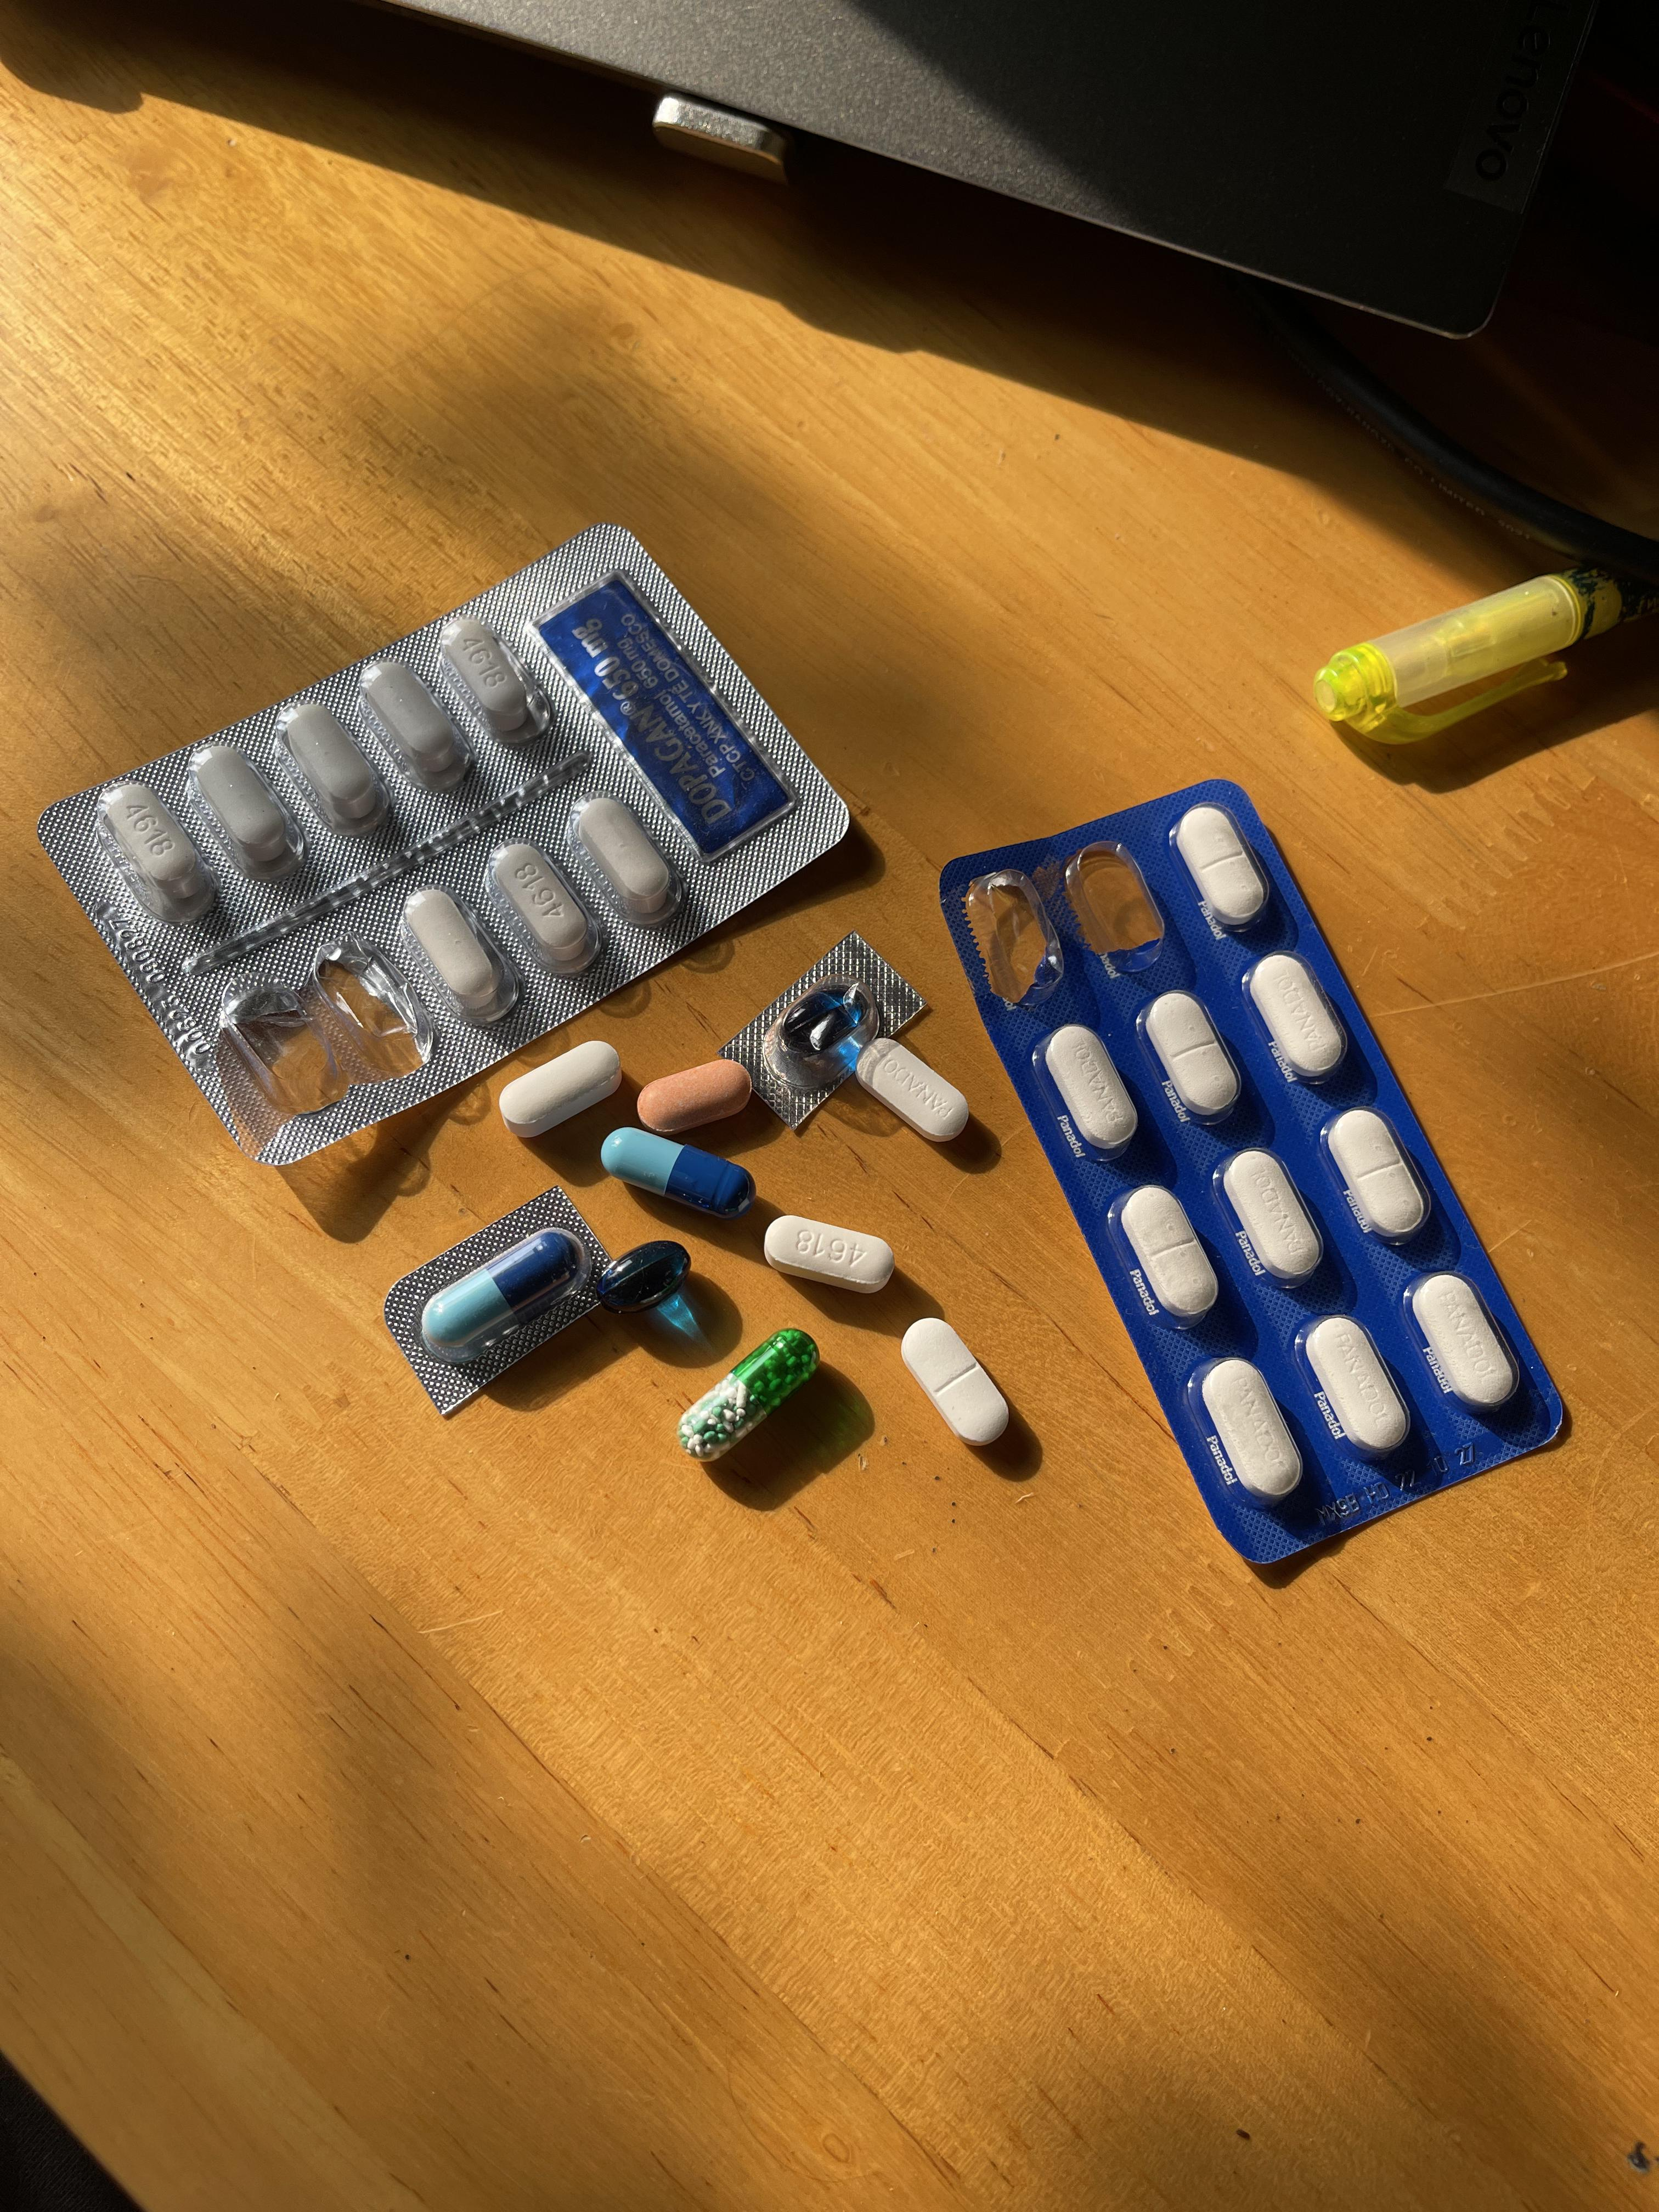Lincomyxin_500mg: (601, 1244, 690, 1312), (786, 993, 856, 1062)
Loratadine_10mg: (633, 1057, 749, 1129)
Paracetamol_350mg: (1410, 1271, 1518, 1414), (1304, 1315, 1410, 1458), (1199, 1357, 1302, 1501), (899, 1315, 1009, 1447), (1326, 1104, 1429, 1244), (1220, 1148, 1324, 1284), (1119, 1184, 1218, 1320), (1248, 949, 1347, 1083), (1143, 991, 1241, 1122), (1044, 1022, 1138, 1153), (1175, 805, 1269, 932), (859, 1038, 969, 1141)
Paracetamol_500mg: (190, 740, 308, 890), (488, 840, 605, 984), (357, 657, 469, 798), (399, 885, 511, 1022), (568, 796, 681, 928), (101, 787, 214, 916), (279, 702, 389, 833), (497, 1038, 624, 1132), (446, 620, 544, 742), (762, 1214, 889, 1291)
Paracetamol_650mg: (685, 1329, 819, 1456)
pill: (420, 1230, 573, 1350), (601, 1123, 749, 1211)
